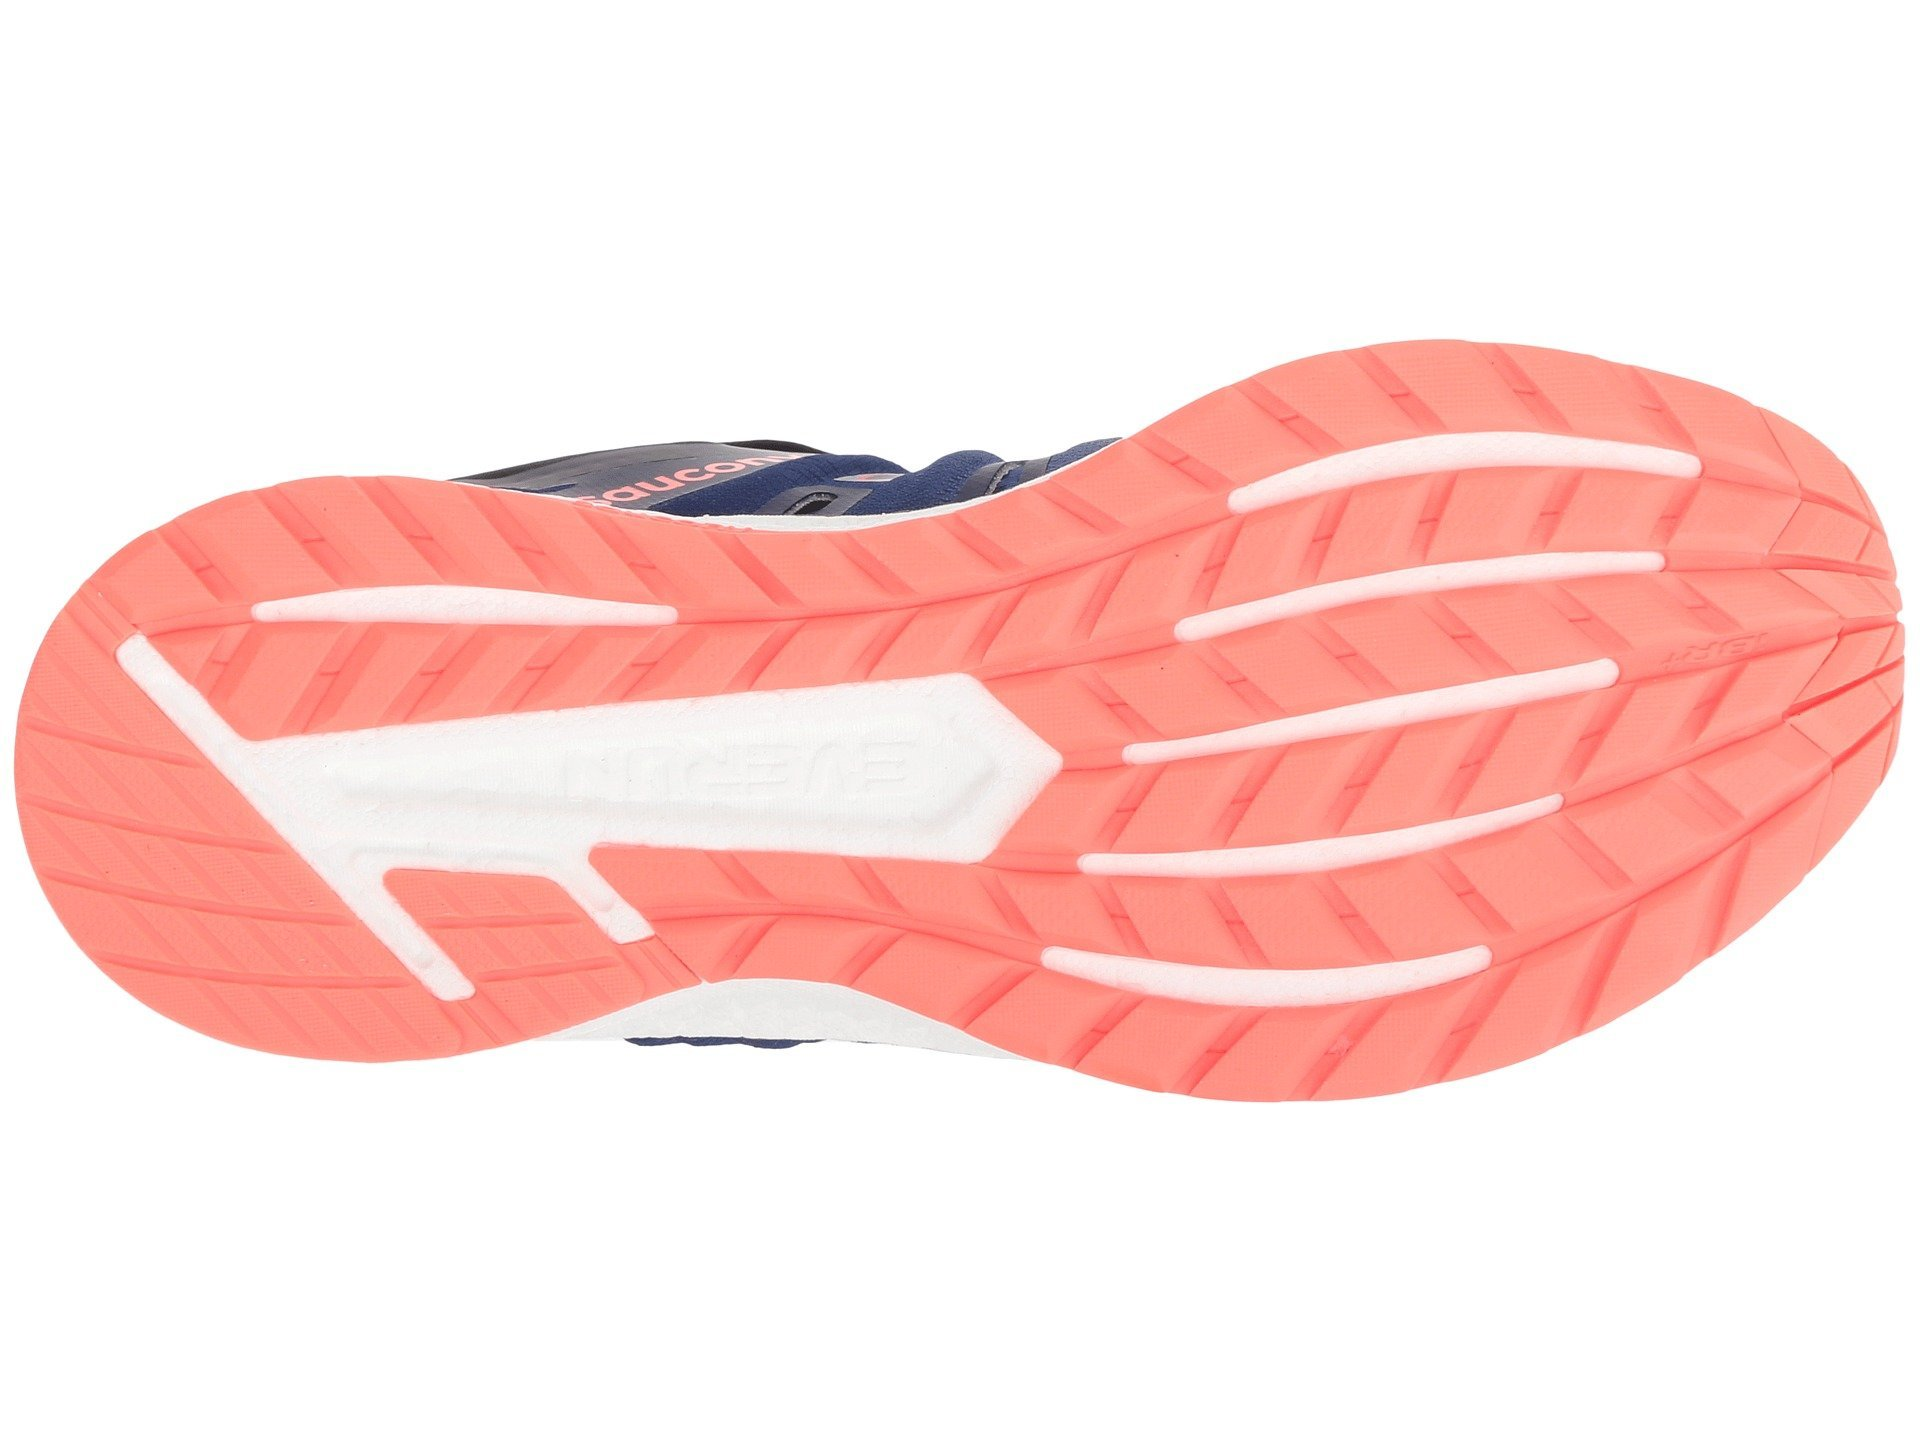chevron: (1152, 254, 1769, 709), (1132, 734, 1571, 1159), (101, 467, 461, 817)
line: (1152, 254, 1769, 709), (1132, 734, 1571, 1159), (101, 467, 461, 817)
quad: (1152, 254, 1769, 709), (1132, 734, 1571, 1159), (101, 467, 461, 817), (553, 591, 965, 886), (39, 821, 386, 1144), (623, 889, 877, 1072)
text: (553, 591, 965, 886)
triangle: (623, 889, 877, 1072)
